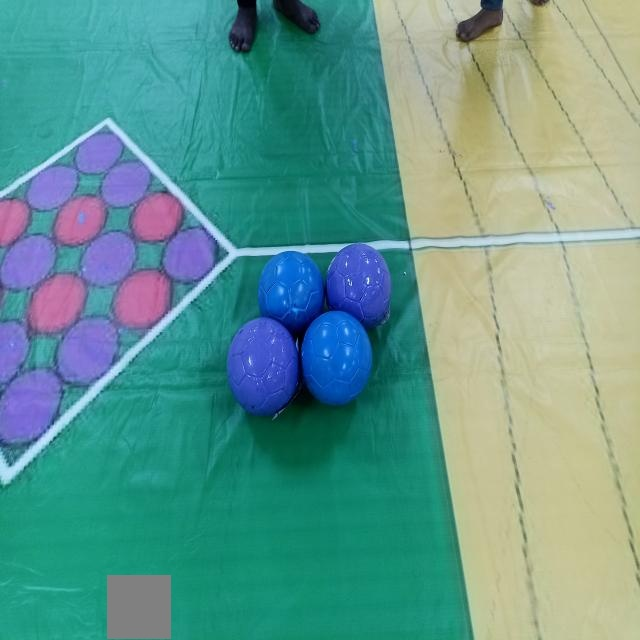blue_ball: (302, 312, 371, 408), (260, 252, 326, 324)
purple_ball: (228, 319, 299, 419), (326, 246, 391, 317)
